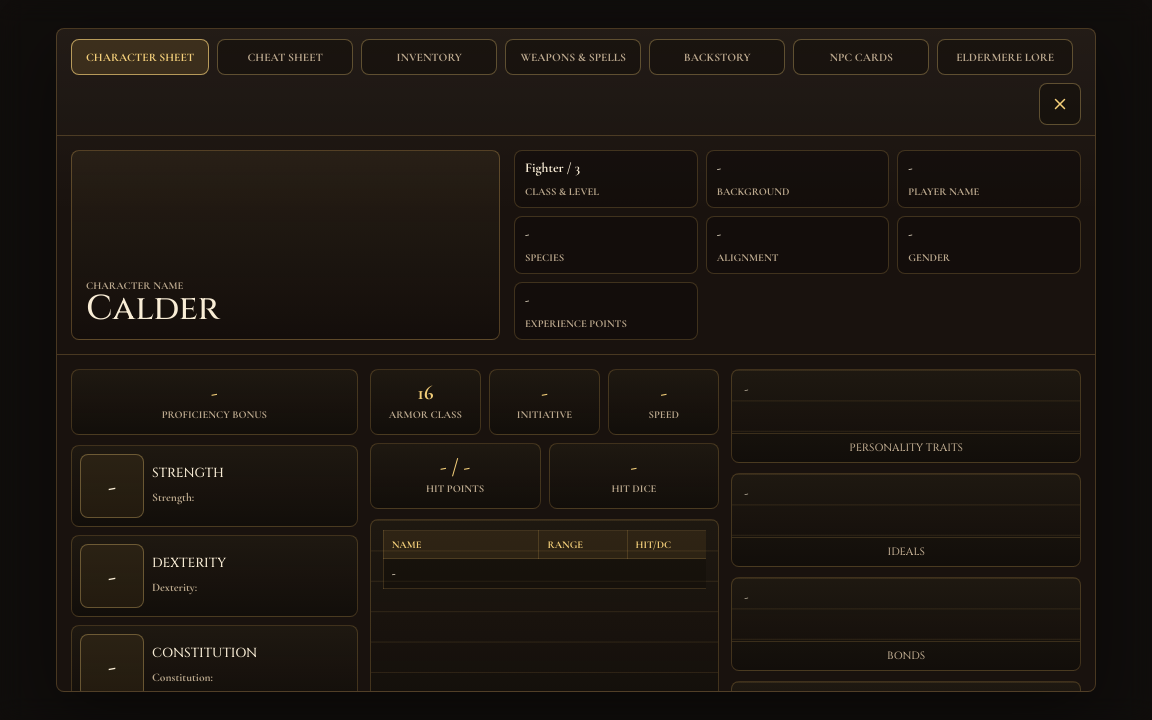
Test: CharacterSheetOverlay › keeps the player backstory in Player Resources without adding a separate glossary
Click the tab "Backstory": coordinates (717, 57) [649,39,785,75]
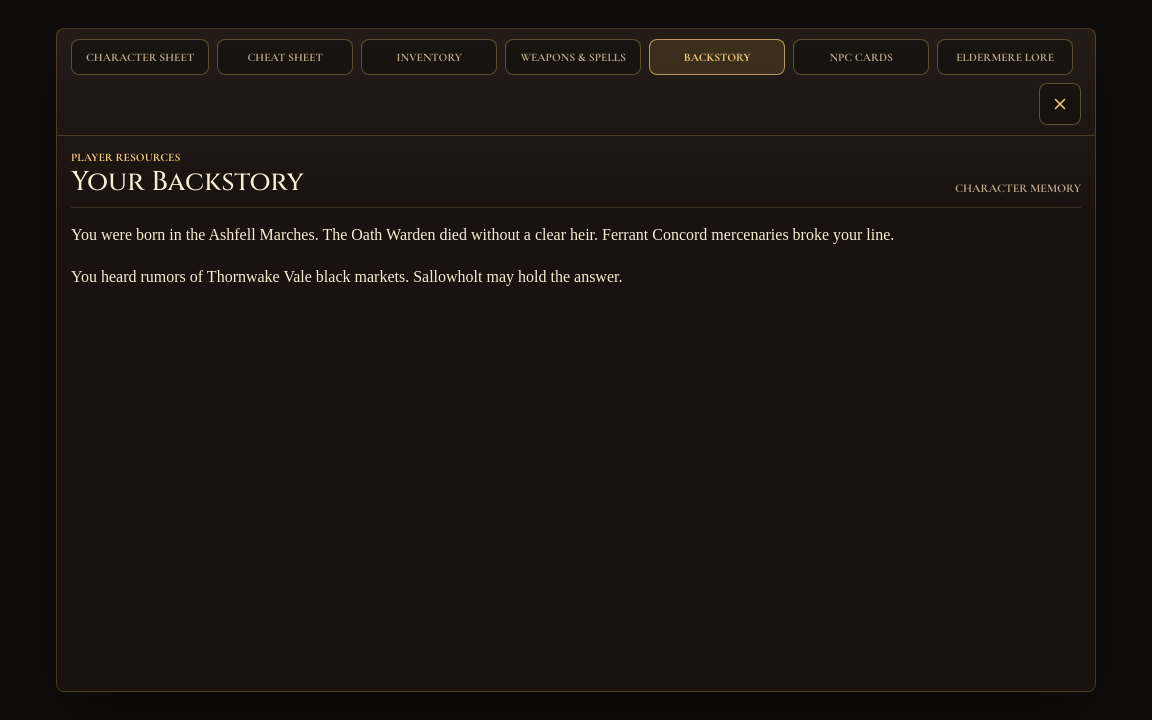
Check: the text "You were born in the Ashfell Marches" is shown, box [71,226,894,243]
